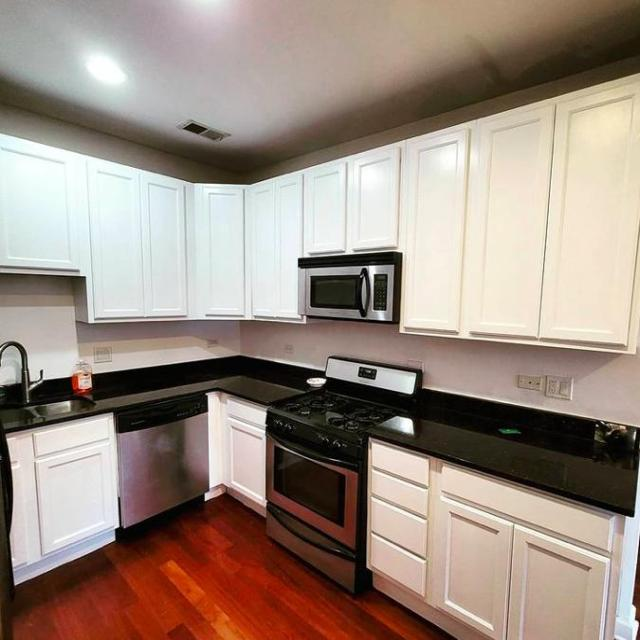dishwasher: (112, 393, 208, 526)
